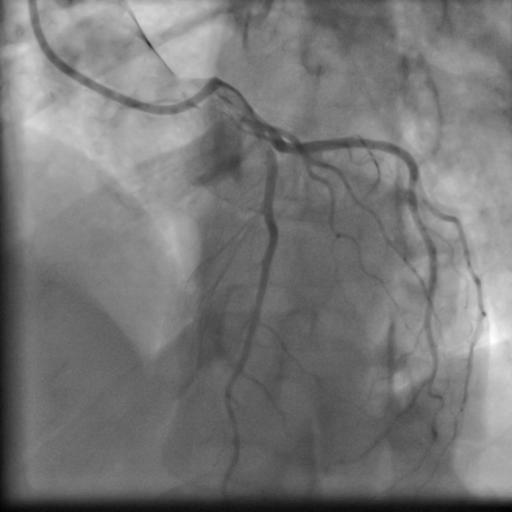Stenosis: (259, 140, 279, 181)
